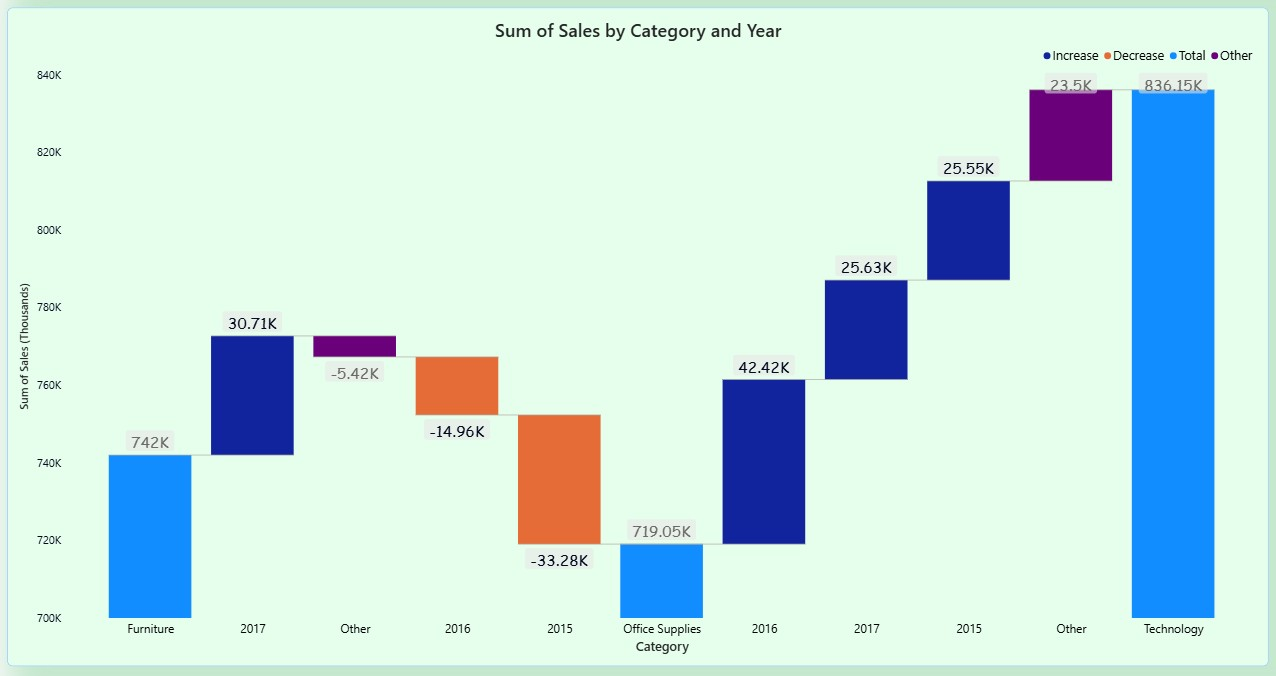

Layout of this report page (visuals, bound fields, positions):
{"tool":"powerbi","page":{"name":"Q4. Waterfall Chart","canvas":[1920,1080],"ordinal":3},"visuals":[{"type":"waterfallChart","fields":{"Breakdown":["Orders.Order Date.Variation.Date Hierarchy.Year"],"Category":["Orders.Category"],"Y":["Sum(Orders.Sales)"]},"box":[35.6,71.3,1849.3,966.2],"z":0}]}

Visuals, with their boxes on the page's 1920x1080 design canvas (x1, y1, x2, y2). These are canvas units, not pixel positions in the 1276x676 screenshot, which may show the page scaled, cropped or inside an application window:
waterfallChart - Orders.Order Date.Variation.Date Hierarchy.Year x Orders.Category: Rect(36, 71, 1885, 1038)
